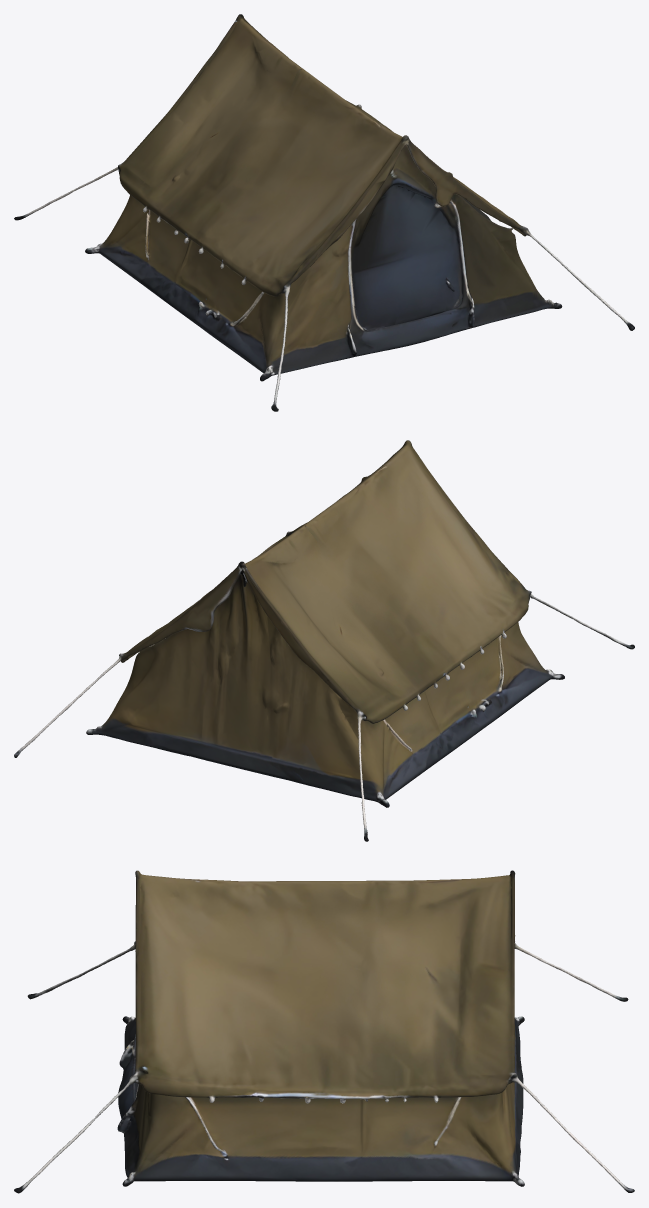
File: prop-tent.glb
3 views of the same model, one above another, from view 1: azimuth 30°, elevation 25°; view 2: azimuth 150°, elevation 25°; view 3: azimuth 270°, elevation 25° (orthographic). The views are drawn at different scales.
Parts seen in each view (by area): view 1: tripo_node_84a121f3-f06f-46f2-85ff-abeda91f0c04; view 2: tripo_node_84a121f3-f06f-46f2-85ff-abeda91f0c04; view 3: tripo_node_84a121f3-f06f-46f2-85ff-abeda91f0c04.
Part boxes in pixels (box(x1,y1,x2,y2)): tripo_node_84a121f3-f06f-46f2-85ff-abeda91f0c04: box(14, 14, 634, 411); tripo_node_84a121f3-f06f-46f2-85ff-abeda91f0c04: box(14, 440, 634, 841); tripo_node_84a121f3-f06f-46f2-85ff-abeda91f0c04: box(14, 870, 634, 1193).
Bounding box in the file's own units: 5.43 × 3 × 7.22.
1 material, 1 textured.
